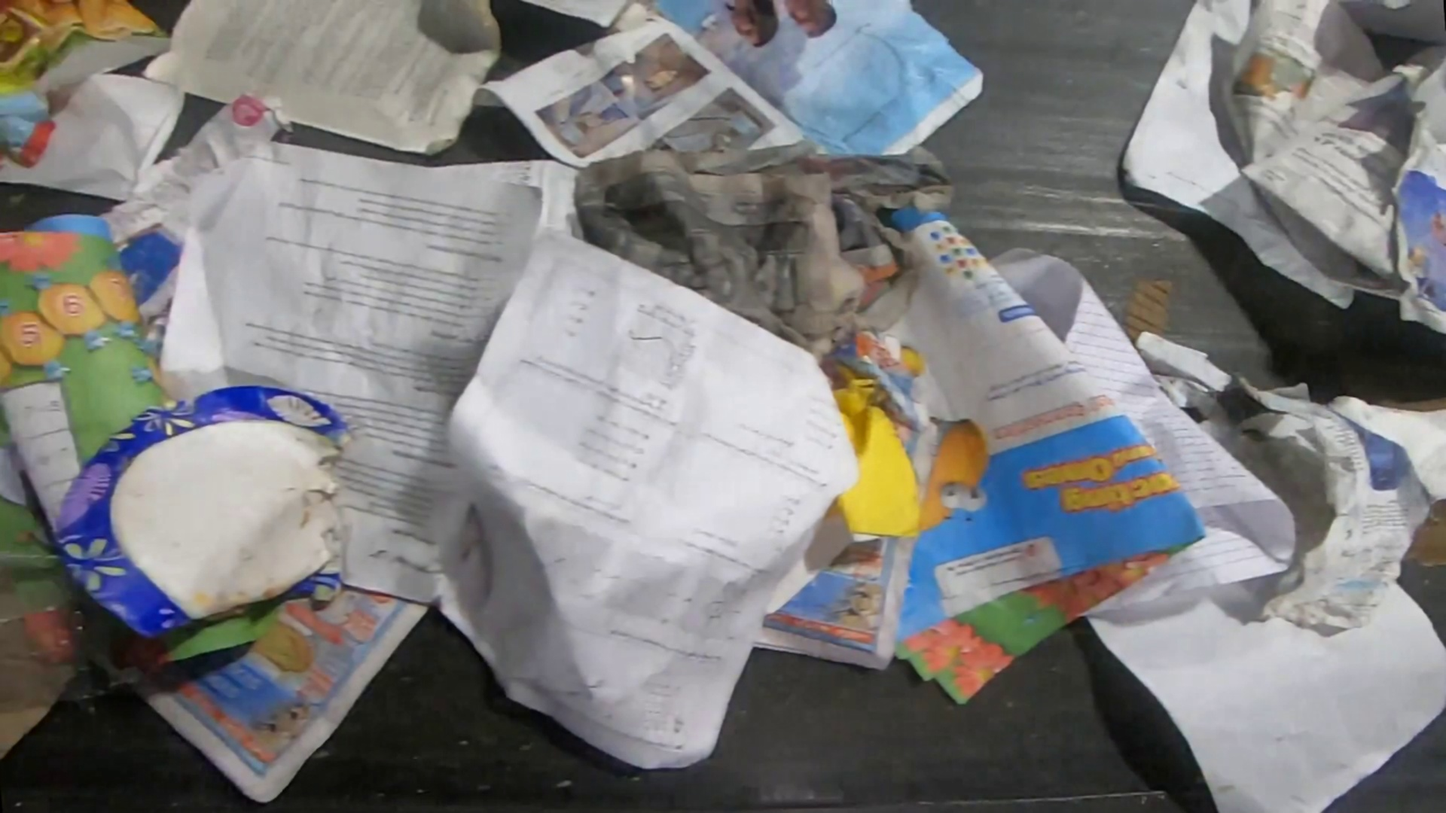cardboard: (50, 385, 356, 641), (0, 0, 173, 169), (0, 706, 52, 766)
plastic: (0, 544, 144, 709)
